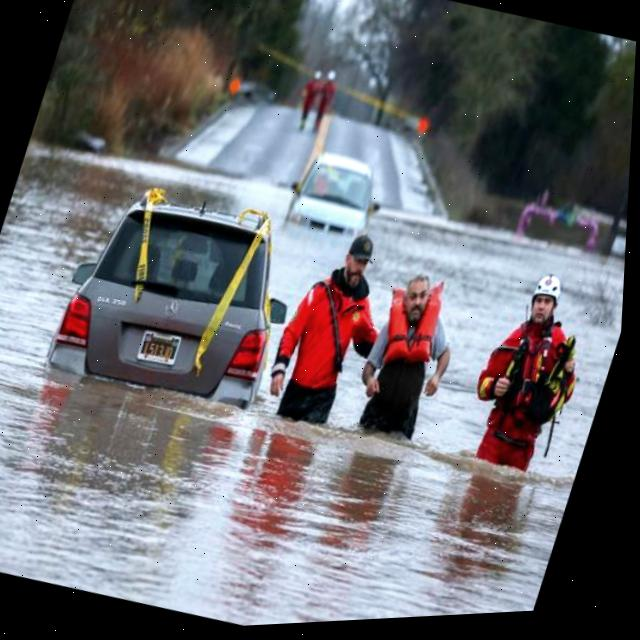civilian: (333, 253, 487, 467)
rescuer: (434, 254, 616, 499), (241, 215, 411, 454), (280, 62, 328, 139), (302, 65, 345, 142)
